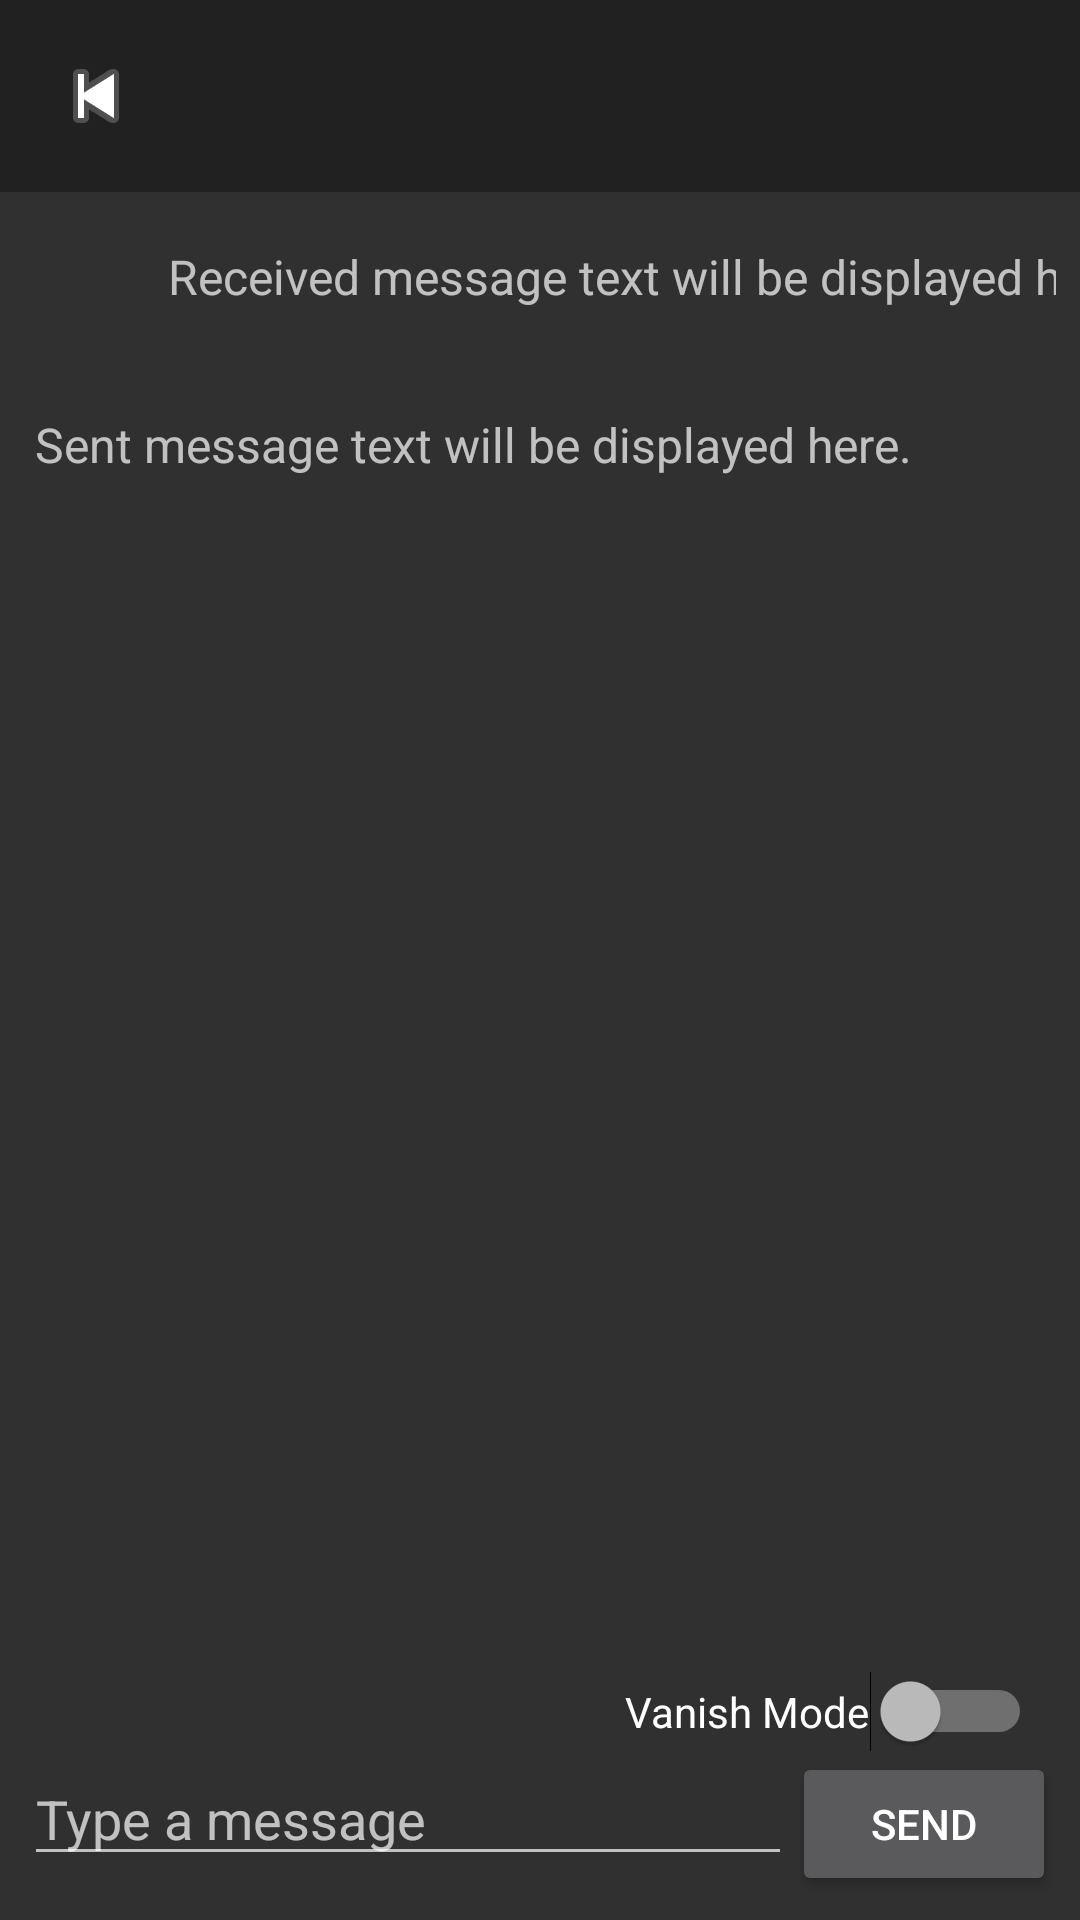

Where to tap for icons on this 1080 x 1920 app screen, as (x=x, y=y):
Back: (x=96, y=96)
